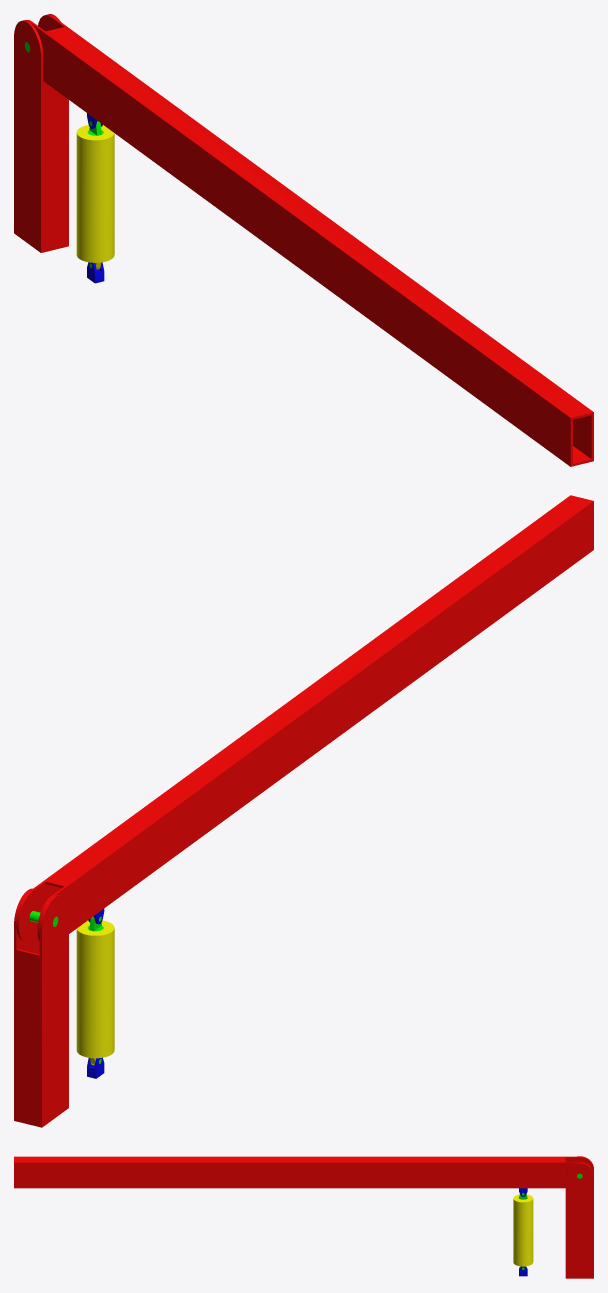
File: anark_testi.dae
The picture shows the model from 3 angles, top to bottom: view 1: azimuth 30°, elevation 25°; view 2: azimuth 150°, elevation 25°; view 3: azimuth 270°, elevation 25°; orthographic projection. The views are drawn at different scales.
Parts seen in each view (by area): view 1: Boom, Base, cylbarrel; view 2: Boom, Base, cylbarrel; view 3: Boom, Base, cylbarrel.
Boxes of the visible parts, x1,y1,x2,y2 form: Boom: (25,14,593,466); Base: (14,14,68,252); cylbarrel: (76,125,114,269); Boom: (16,495,593,942); Base: (14,888,68,1127); cylbarrel: (76,920,114,1065); Boom: (14,1156,593,1188); Base: (565,1156,593,1278); cylbarrel: (513,1194,533,1267).
Size of the model in its own units: 0.07 by 0.45 by 2.05.
